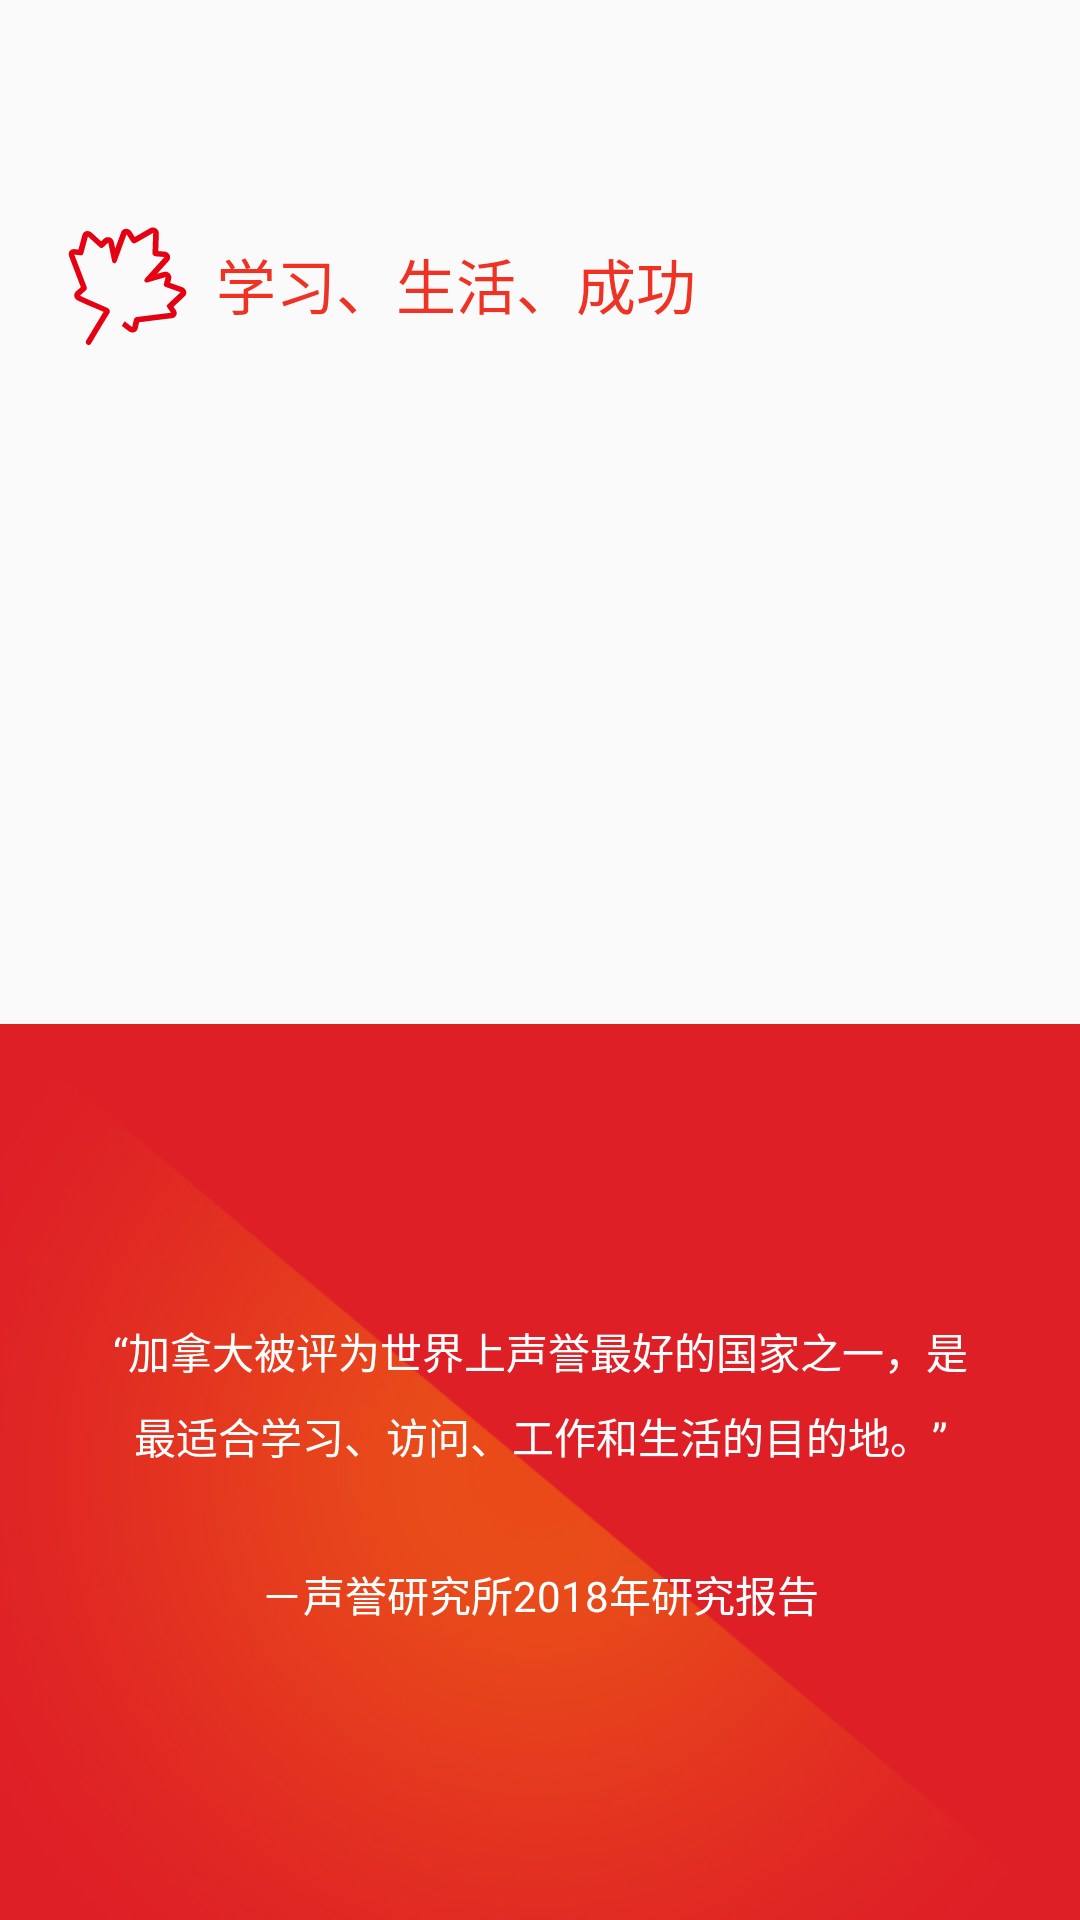

Point at icon controls on the screen. Image size 1080*1920, points as point (x, y).
leaf: point (127, 286)
